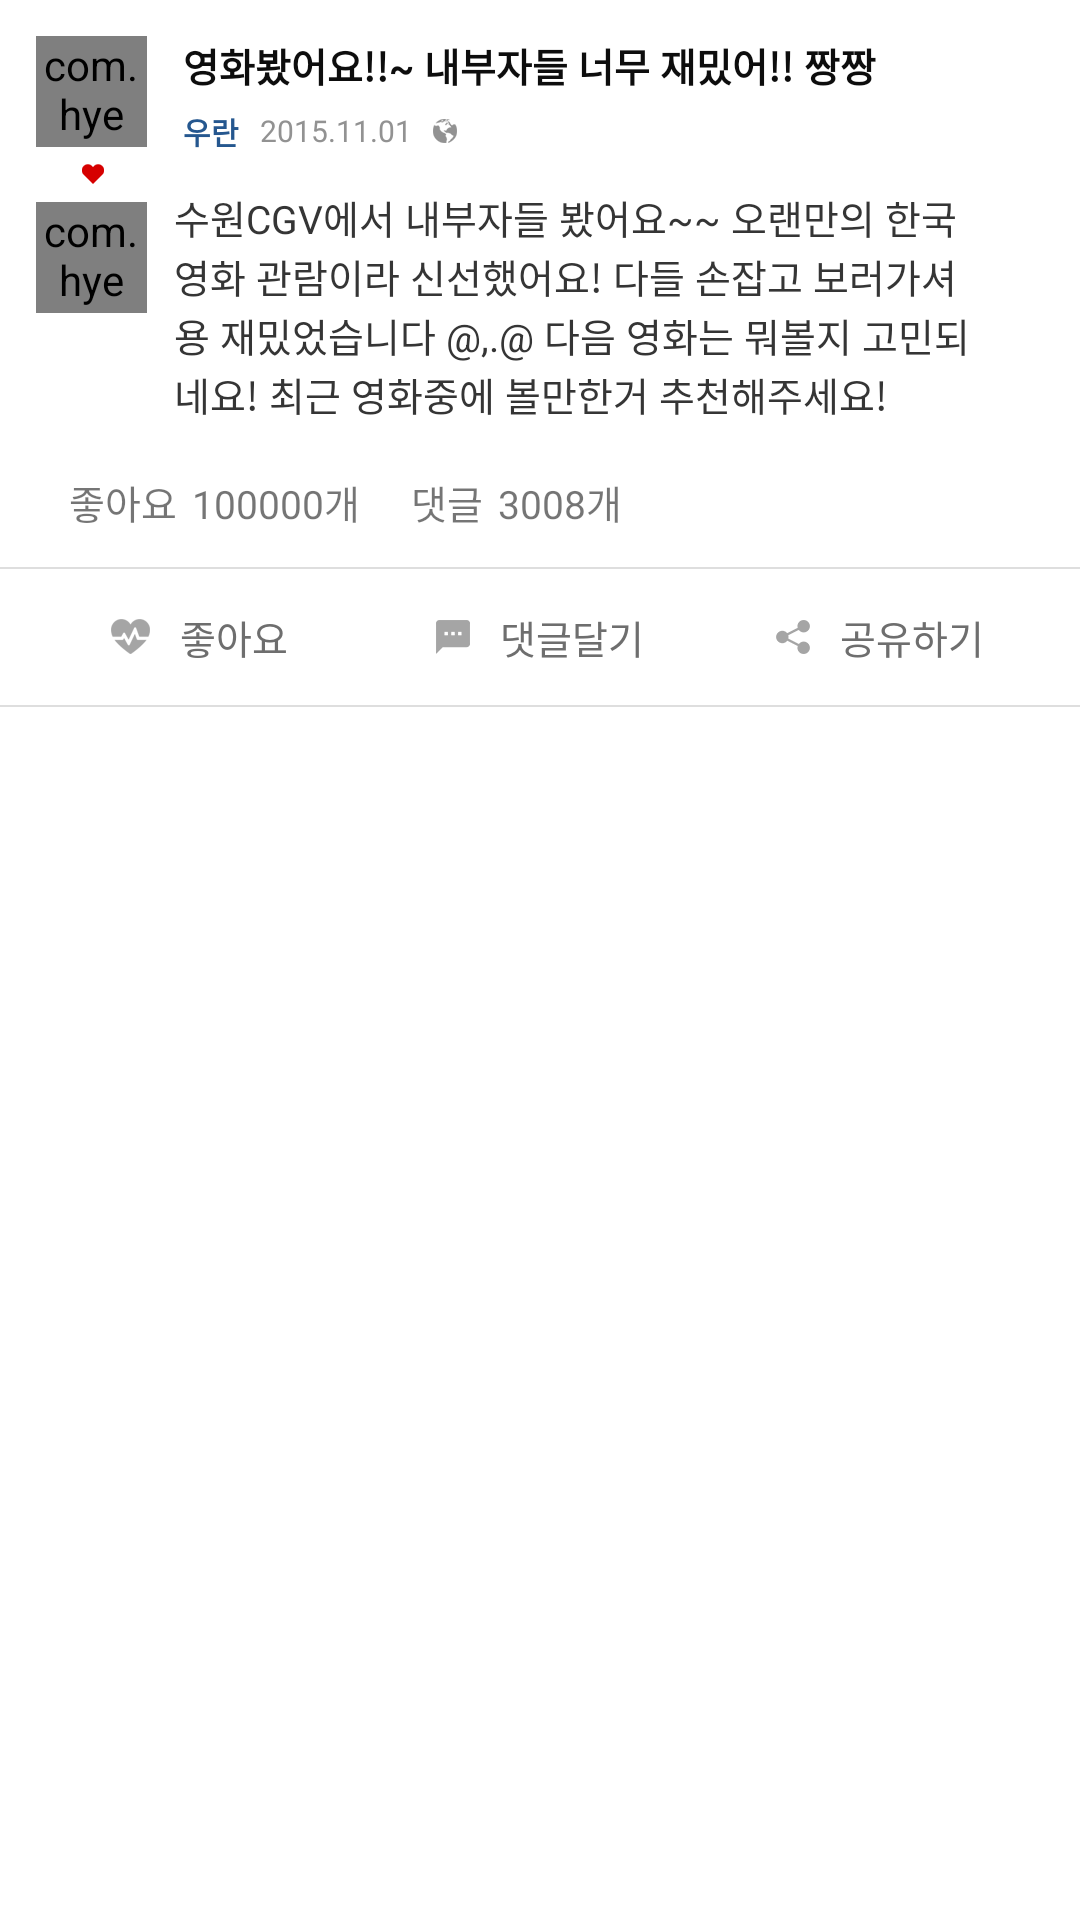

Named icons in this screenshot (1080w x 1920h) and their centers, (x=x, y=y):
comment: (x=453, y=637)
gobal: (x=445, y=131)
like: (x=130, y=636)
share: (x=793, y=637)
